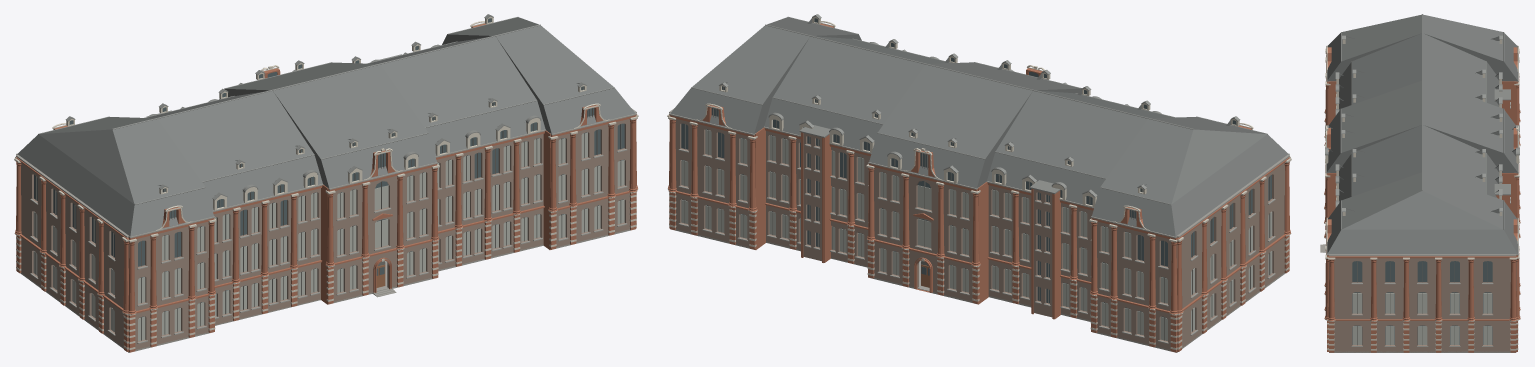
The model's file is xuhui-chongsi-building-lod.glb.
3 views of the same model, side by side, from view 1: azimuth 30°, elevation 25°; view 2: azimuth 150°, elevation 25°; view 3: azimuth 270°, elevation 25° (orthographic). The views are drawn at different scales.
Visible parts, largest first — view 1: 徐汇公学崇思楼（修复后南北立面与孟莎屋顶）; view 2: 徐汇公学崇思楼（修复后南北立面与孟莎屋顶）; view 3: 徐汇公学崇思楼（修复后南北立面与孟莎屋顶）.
Part boxes in pixels (left/top/right/bottom): 徐汇公学崇思楼（修复后南北立面与孟莎屋顶）: left=14, top=14, right=638, bottom=352; 徐汇公学崇思楼（修复后南北立面与孟莎屋顶）: left=667, top=14, right=1291, bottom=352; 徐汇公学崇思楼（修复后南北立面与孟莎屋顶）: left=1320, top=14, right=1520, bottom=352.
Size of the model in its own units: 67.24 by 21.73 by 26.89.
